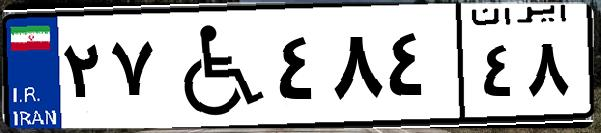2: (57, 26, 110, 100)
4: (270, 28, 330, 110), (385, 28, 445, 110), (475, 38, 525, 113)
7: (110, 28, 158, 98)
8: (330, 28, 385, 110), (525, 38, 570, 115)
ژ (معلولین و جانبازان): (158, 12, 270, 120)
